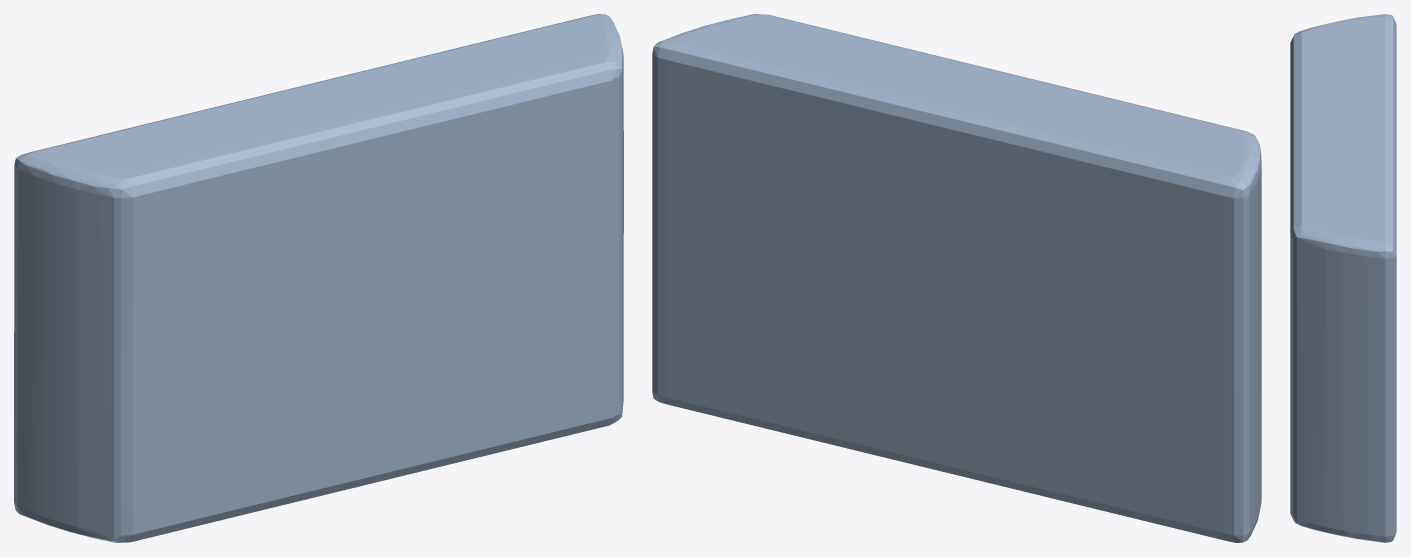
The model's file is pelvis_part_6.obj.
3 renders of one model, left to right at view 1: azimuth 30°, elevation 25°; view 2: azimuth 150°, elevation 25°; view 3: azimuth 270°, elevation 25°, orthographic. The views are drawn at different scales.
Bounding box in the file's own units: 0.1353 × 0.0791 × 0.0256.
